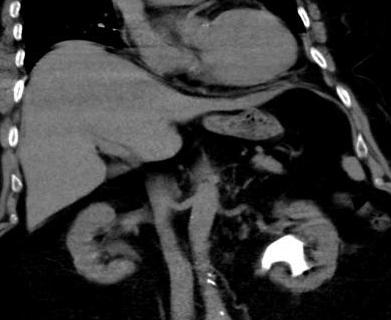Tas_Var: (260, 232, 320, 280)
